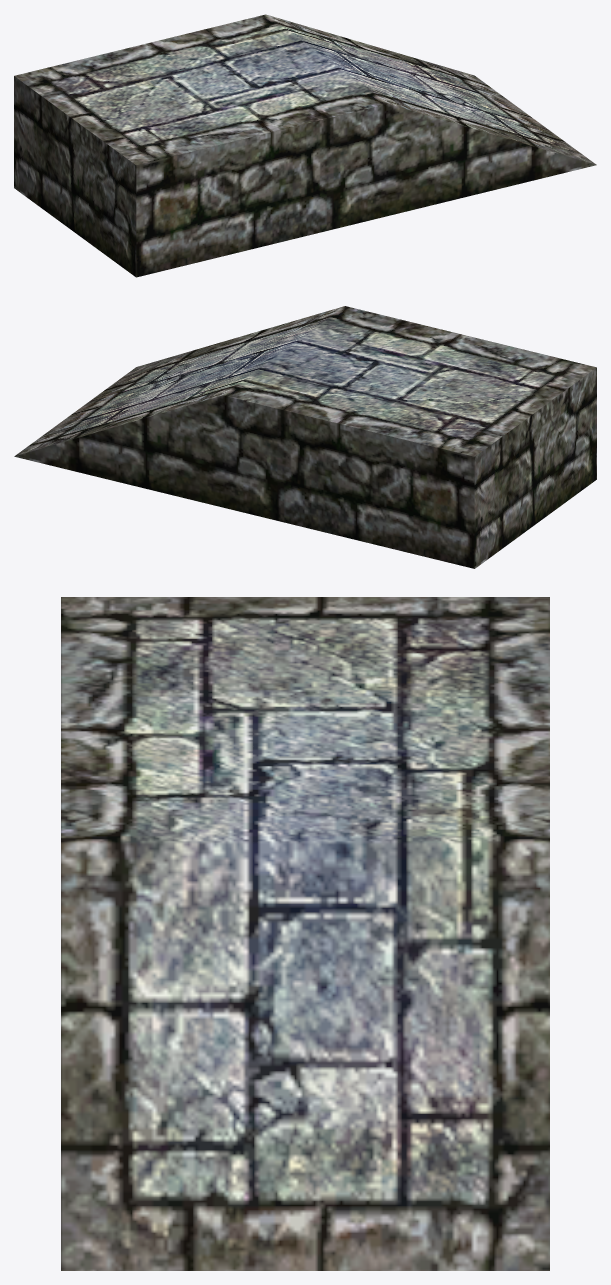
The picture shows the model from 3 angles, top to bottom: view 1: azimuth 30°, elevation 25°; view 2: azimuth 150°, elevation 25°; view 3: azimuth 270°, elevation 25°; orthographic projection. The views are drawn at different scales.
Visible parts, largest first — view 1: cc15-col; view 2: cc15-col; view 3: cc15-col.
Part boxes in pixels (x1=…): cc15-col: x1=14, y1=14, x2=596, y2=277; cc15-col: x1=14, y1=306, x2=596, y2=568; cc15-col: x1=61, y1=597, x2=549, y2=1270.
Size of the model in its own units: 4.3 by 0.9999 by 1.98.
Materials: 1 (1 with a texture image).
